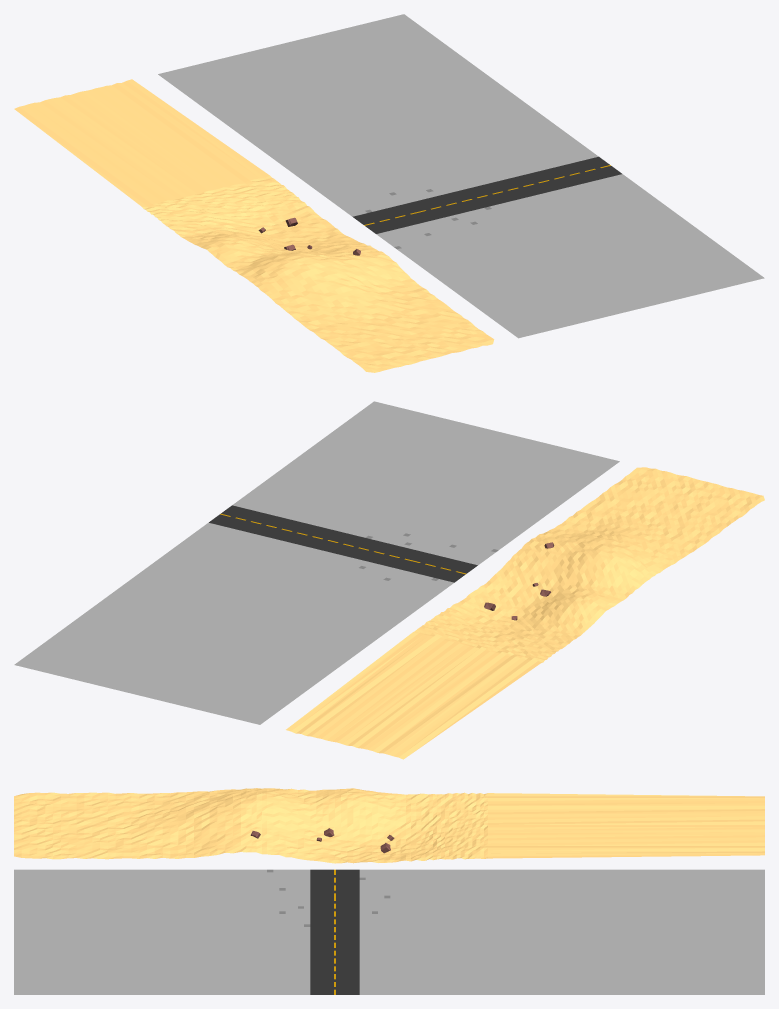
File: Environment_ground.fbx
3 views of the same model, one above another, from view 1: azimuth 30°, elevation 25°; view 2: azimuth 150°, elevation 25°; view 3: azimuth 270°, elevation 25° (orthographic). The views are drawn at different scales.
Parts seen in each view (by area): view 1: polySurface88, polySurface92; view 2: polySurface88, polySurface92; view 3: polySurface88, polySurface92.
Boxes of the visible parts, x1,y1,x2,y2 form: polySurface88: (158, 14, 764, 338); polySurface92: (14, 79, 494, 372); polySurface88: (14, 401, 619, 724); polySurface92: (286, 467, 764, 759); polySurface88: (14, 869, 764, 994); polySurface92: (14, 788, 764, 863).
Size of the model in its own units: 76.96 by 5.37 by 122.
